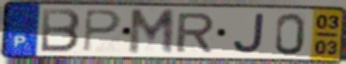0: (273, 11, 308, 56)
B: (39, 7, 83, 54)
J: (231, 11, 266, 55)
M: (126, 8, 177, 57)
P: (82, 8, 124, 54)
R: (174, 11, 217, 54)
